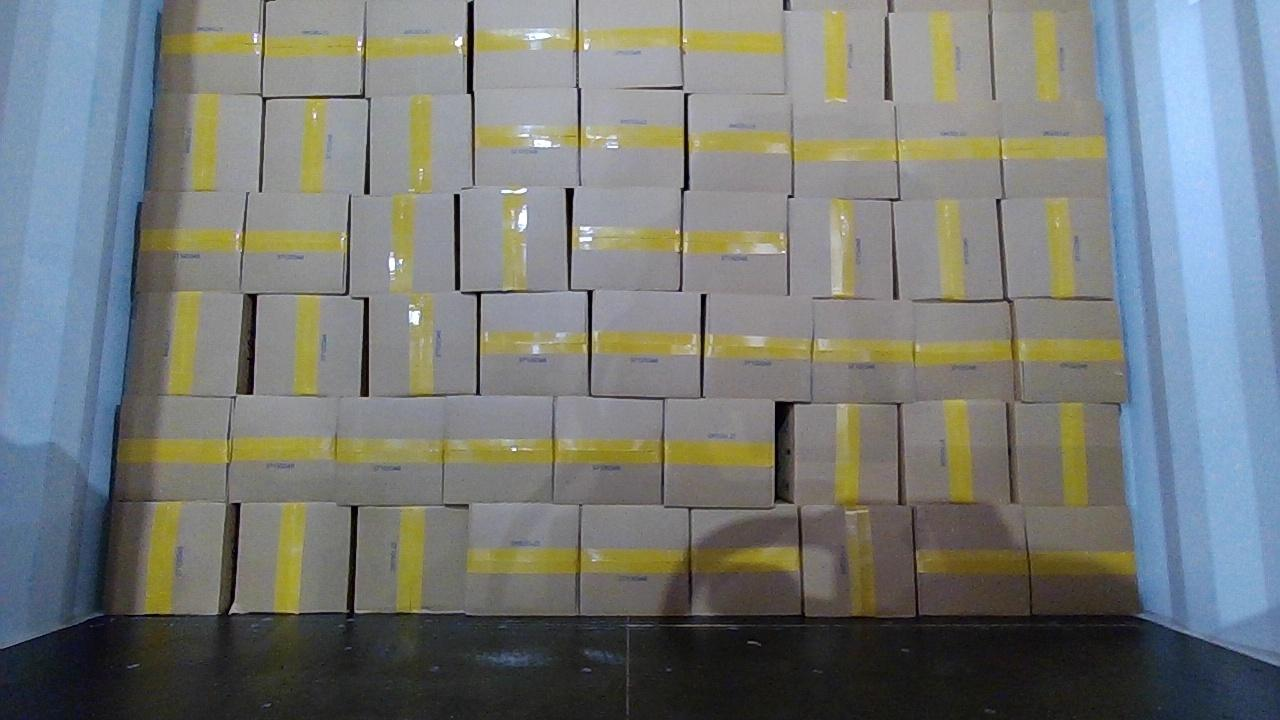carton: (105, 502, 234, 613), (126, 291, 254, 398), (231, 503, 352, 613), (801, 504, 916, 616), (914, 504, 1029, 614), (113, 395, 232, 501), (464, 504, 578, 614), (1024, 506, 1140, 614), (779, 405, 899, 507), (664, 399, 774, 508), (690, 506, 802, 613), (356, 506, 468, 612), (1010, 403, 1125, 506), (591, 290, 700, 398), (999, 196, 1114, 298), (703, 294, 812, 401), (1013, 300, 1126, 403), (554, 396, 662, 503), (581, 505, 688, 613), (230, 395, 338, 501), (445, 395, 551, 503), (334, 398, 443, 503), (366, 292, 477, 395), (901, 400, 1011, 503), (570, 187, 682, 288), (348, 194, 457, 297), (460, 187, 570, 289), (252, 295, 364, 395), (480, 292, 589, 394), (135, 191, 246, 291), (148, 92, 262, 189), (240, 194, 350, 294), (892, 200, 1003, 298), (683, 190, 787, 294), (688, 95, 791, 197), (813, 300, 915, 403), (473, 88, 578, 187), (793, 99, 898, 198), (897, 100, 1002, 199), (790, 198, 894, 297), (369, 95, 474, 193), (1002, 101, 1108, 198), (912, 302, 1015, 401), (581, 90, 684, 188), (261, 99, 367, 193), (366, 0, 468, 96), (156, 0, 261, 93), (888, 10, 993, 103), (262, 0, 362, 97), (992, 10, 1096, 102), (682, 0, 785, 92), (785, 9, 885, 101), (473, 0, 575, 89), (579, 0, 682, 87)
